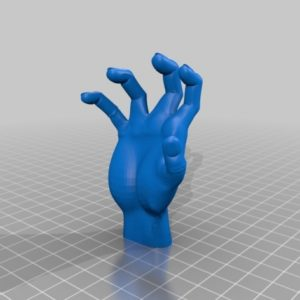finger: (165, 60, 221, 131), (107, 63, 150, 113), (77, 88, 125, 131), (151, 52, 181, 120)
